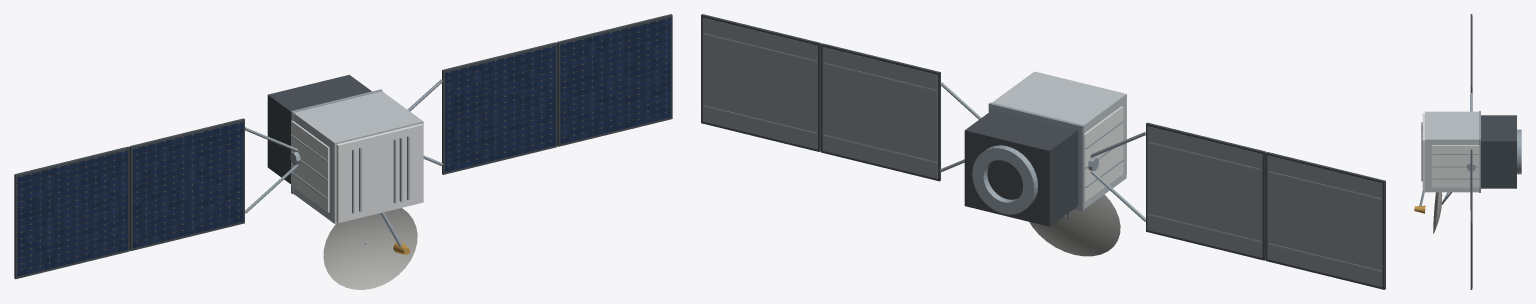
The model's file is ref-arsat-bus-40272.glb.
3 renders of one model, left to right at view 1: azimuth 30°, elevation 25°; view 2: azimuth 150°, elevation 25°; view 3: azimuth 270°, elevation 25°, orthographic. The views are drawn at different scales.
Visible parts, largest first — view 1: Solar cell panel (×4), Earth-facing deck, Communications reflector, Solar panel frame (×4), Payload module, Service module, Radiator face; view 2: Rear array substrate (×4), Service module, Solar panel frame (×4), Payload module, Communications reflector, Launch adapter ring, Radiator face, Module interface; view 3: Service module, Payload module, Radiator face, Solar panel frame (×4), Communications reflector, Earth-facing deck, Launch adapter ring, Module interface, Rear array substrate, Radiator seam, Deck heat pipe.
Boxes of the visible parts, x1,y1,x2,y2 form: Solar cell panel (×4): [17, 17, 671, 276]; Earth-facing deck: [336, 123, 423, 223]; Communications reflector: [323, 208, 417, 289]; Solar panel frame (×4): [14, 14, 672, 279]; Payload module: [293, 91, 423, 223]; Service module: [267, 74, 371, 183]; Radiator face: [291, 120, 329, 212]; Rear array substrate (×4): [702, 18, 1382, 287]; Service module: [964, 109, 1078, 226]; Solar panel frame (×4): [701, 14, 1385, 289]; Payload module: [992, 71, 1126, 208]; Communications reflector: [1029, 194, 1120, 256]; Launch adapter ring: [972, 145, 1037, 214]; Radiator face: [1083, 106, 1123, 201]; Module interface: [988, 102, 1084, 211]; Service module: [1481, 115, 1516, 188]; Payload module: [1425, 111, 1478, 192]; Radiator face: [1431, 145, 1479, 187]; Solar panel frame (×4): [1470, 14, 1472, 289]; Communications reflector: [1433, 192, 1442, 233]; Earth-facing deck: [1422, 113, 1424, 190]; Launch adapter ring: [1517, 129, 1521, 174]; Module interface: [1479, 111, 1480, 192]; Rear array substrate: [1472, 188, 1472, 287]; Radiator seam: [1432, 178, 1478, 179]; Deck heat pipe: [1421, 139, 1422, 181].
Bounding box in the file's own units: 16.27 × 4.08 × 3.54.
Materials: 8 (1 with a texture image).
